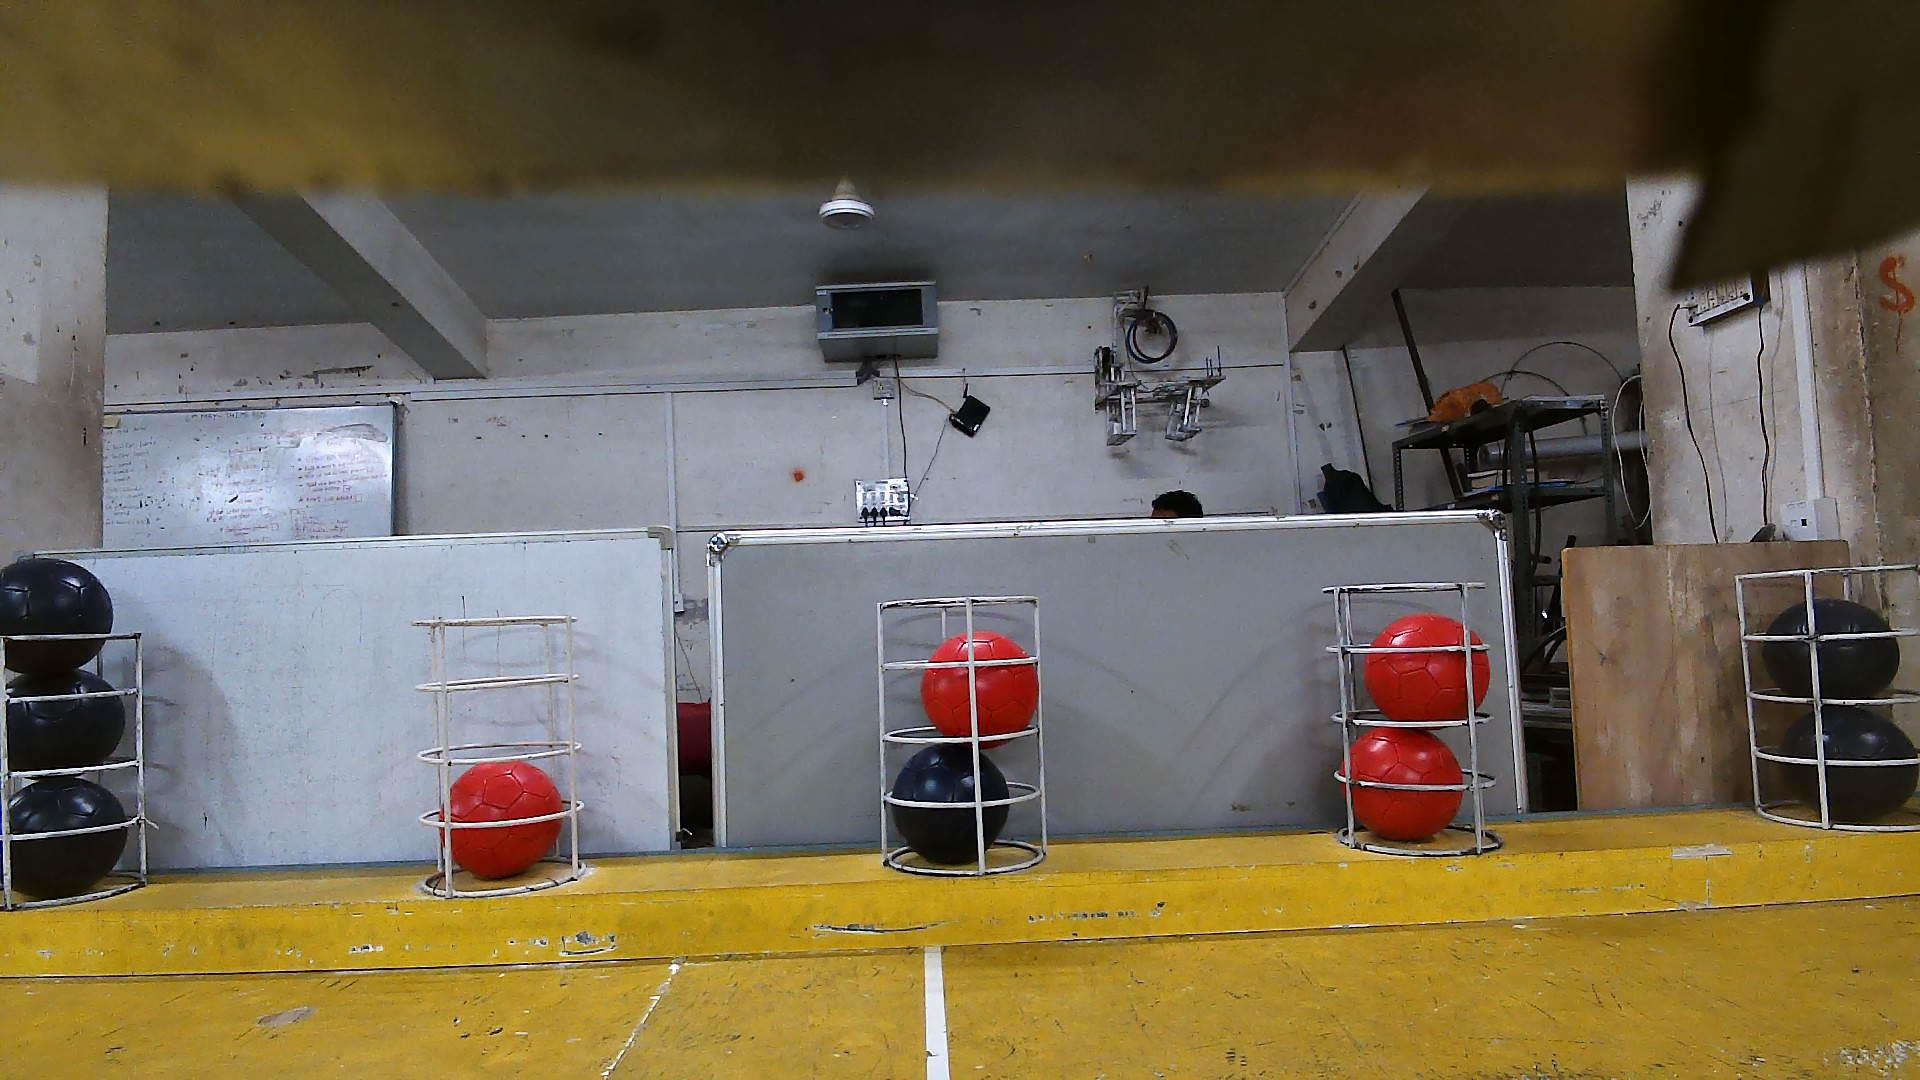dhoka: (8, 775, 133, 895), (1782, 705, 1919, 815), (893, 744, 1007, 862), (1764, 600, 1902, 698), (0, 558, 113, 673), (7, 666, 124, 770)
laale: (440, 762, 563, 878), (1346, 729, 1461, 844), (1369, 615, 1491, 720), (920, 633, 1038, 737)
